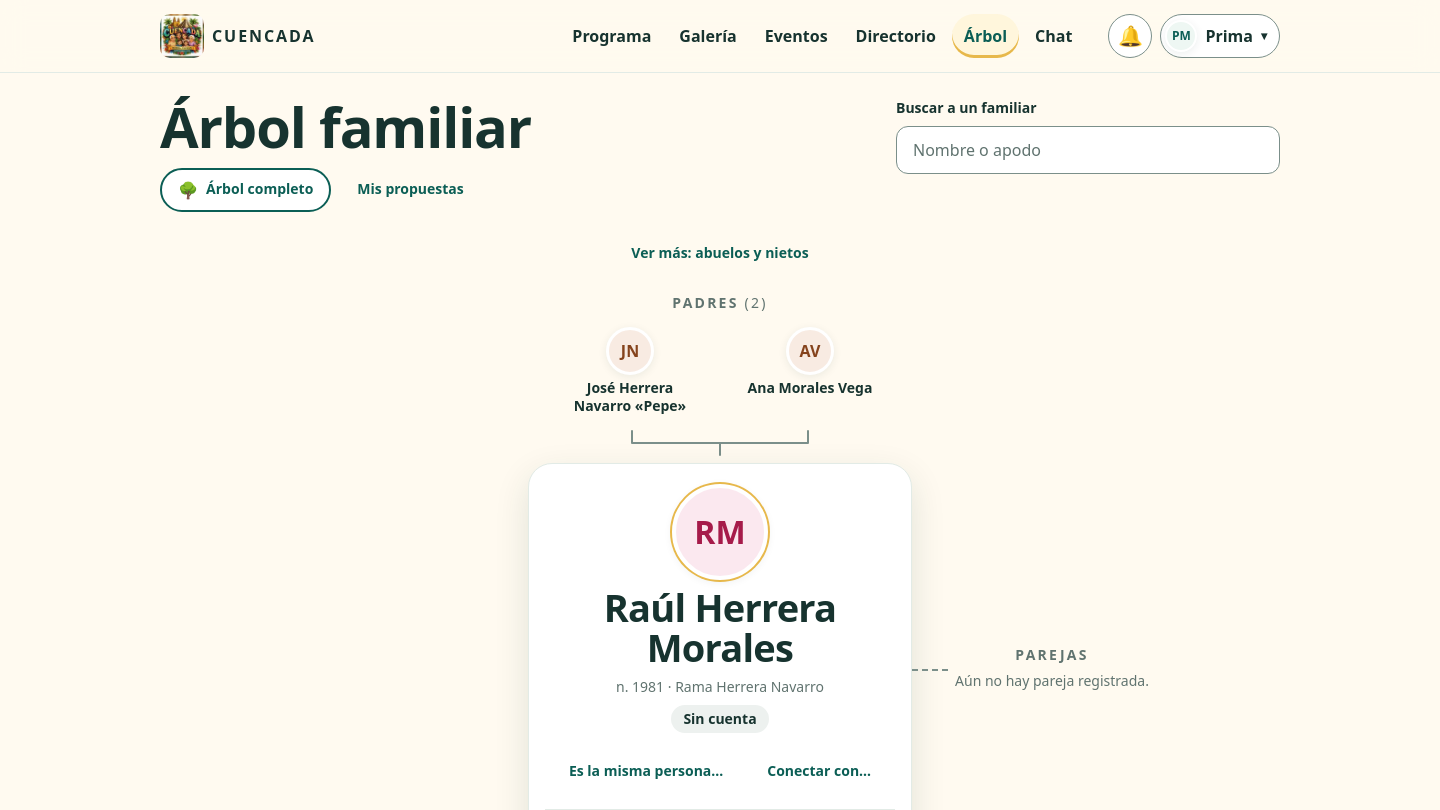
Test case: proposals from the person page › sends «Es la misma persona…» with the picked person and the note
The image size is (1440, 810).
Step 1. Click the button "Es la misma persona…" → (646, 771), box [551,749,741,793]
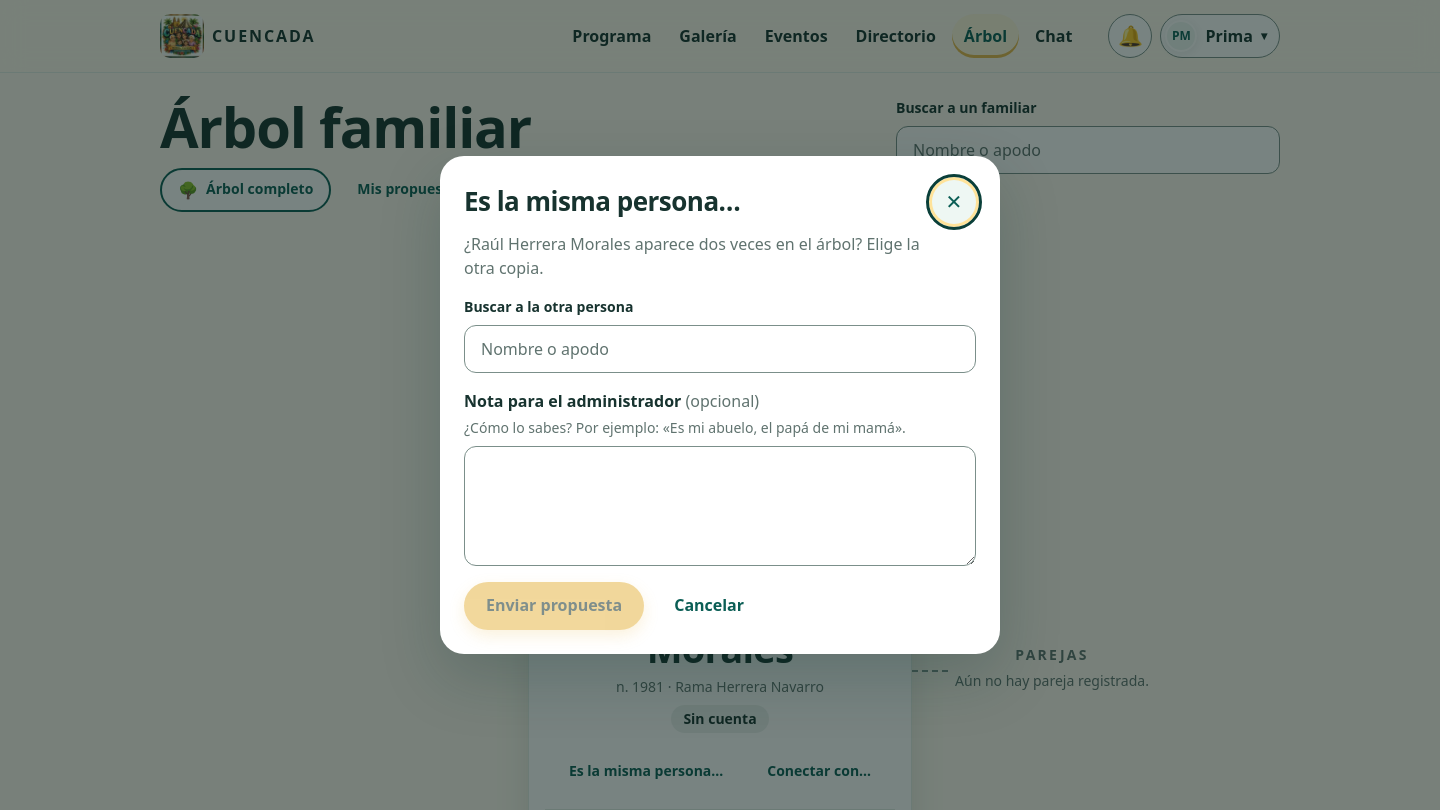
Step 2. Type "Raúl H" into the search field labelled "Buscar a la otra persona" → (720, 349), box [464,325,976,373]
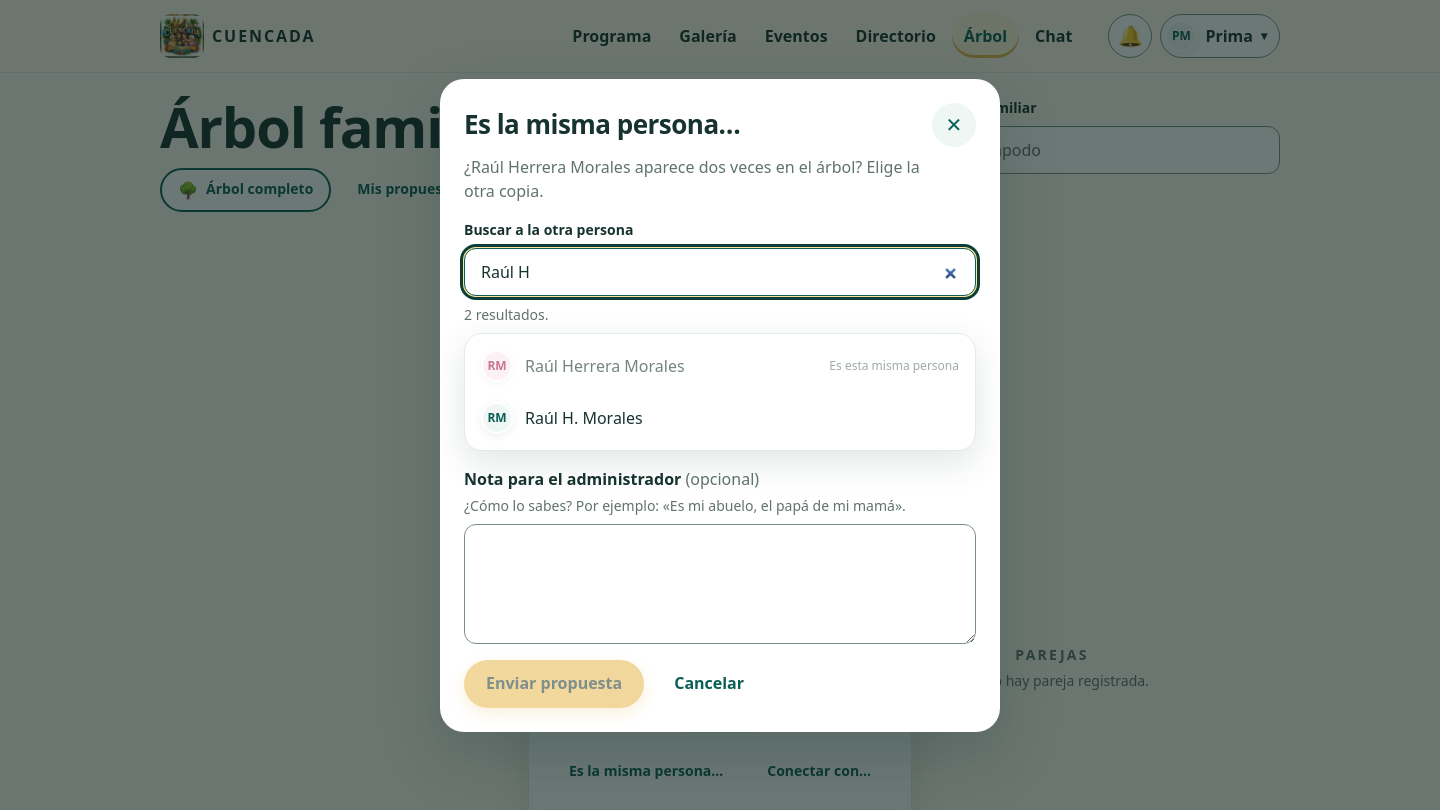
Step 3. Click the button with aria-label "Elegir a Raúl H. Morales" → (497, 418), box [473,394,967,442]
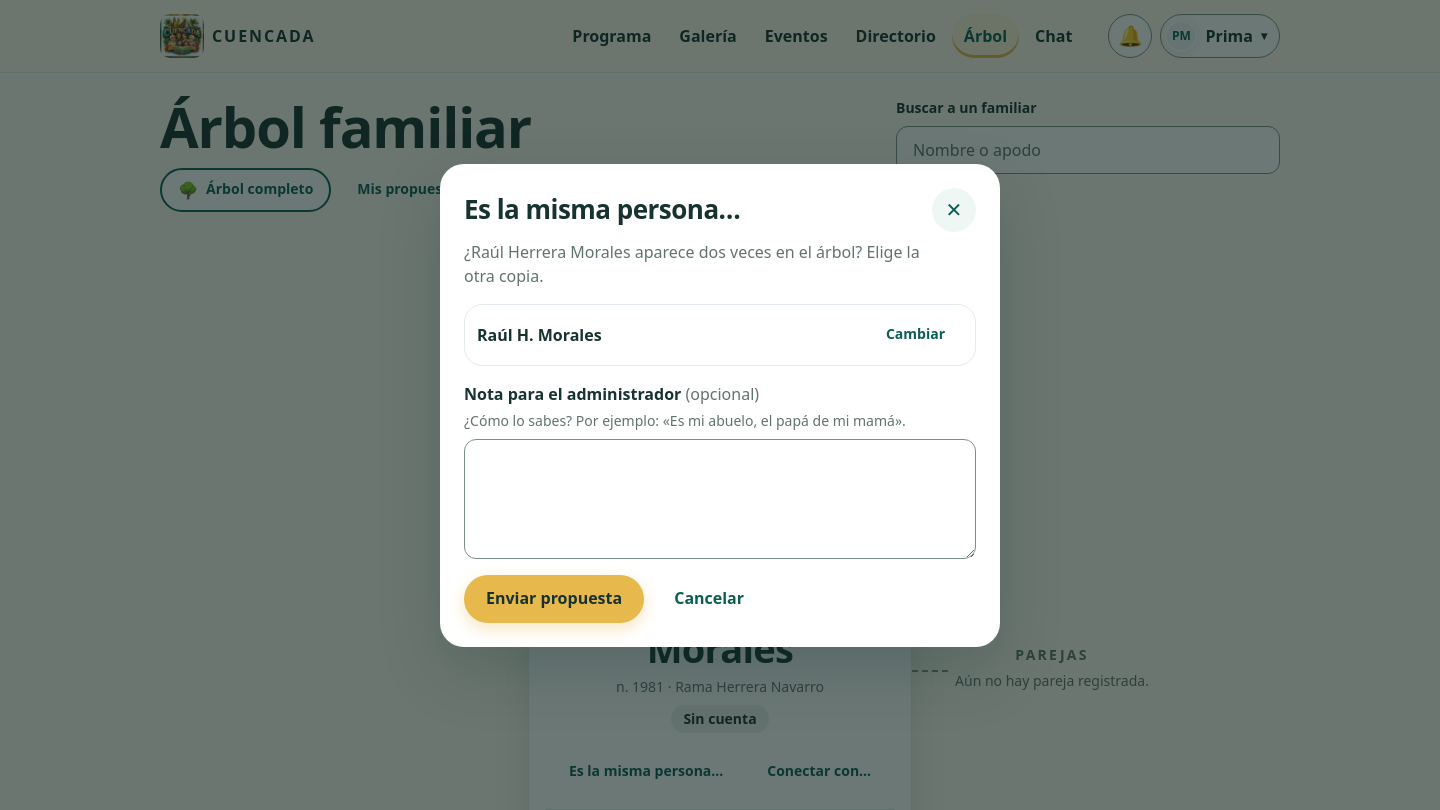
Step 4. Type "Es mi hijo, lo agregó mi prima." into the text box labelled "Nota para el administrador (opcional)" → (720, 498), box [464,438,976,558]
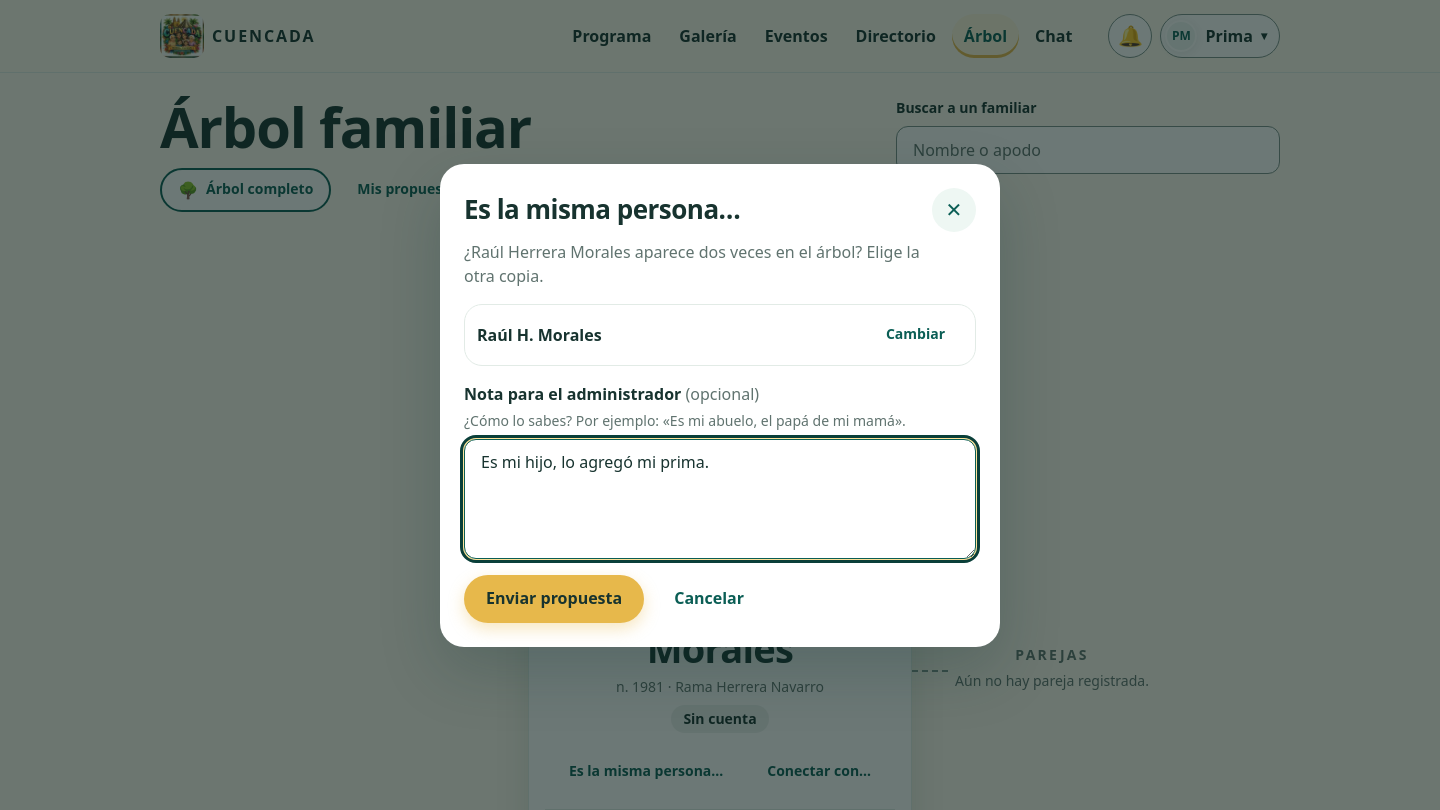
Step 5. Click the button "Enviar propuesta" → (554, 598), box [464,574,644,622]
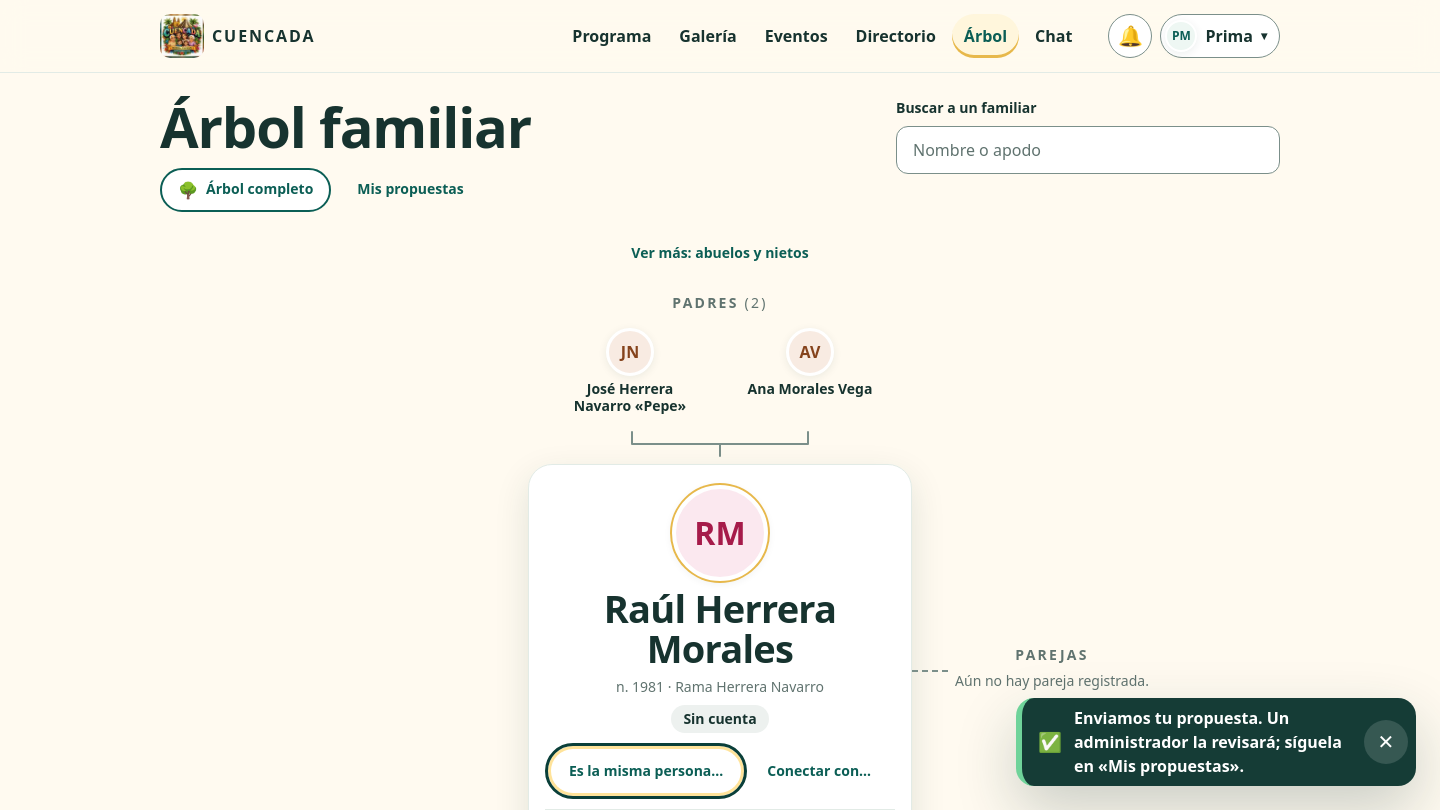
Expected: the text "Enviamos tu propuesta" is shown, [1074,707,1342,777]
